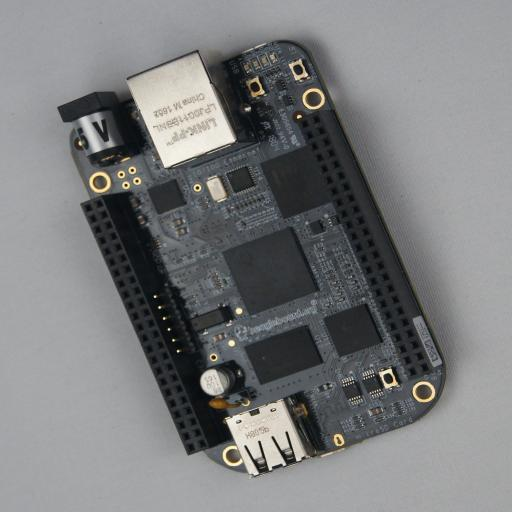Beaglebone Black: (57, 38, 451, 478)
